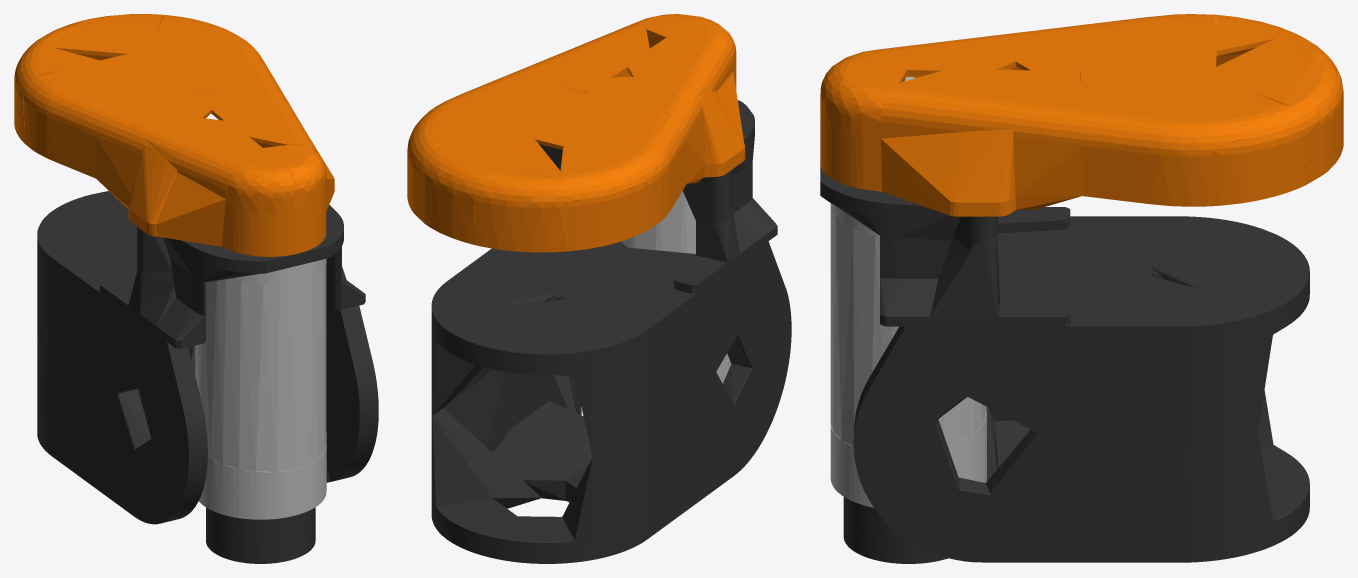
File: RARM_LINK6_mesh.dae
3 renders of one model, left to right at view 1: azimuth 30°, elevation 25°; view 2: azimuth 150°, elevation 25°; view 3: azimuth 270°, elevation 25°, orthographic. The views are drawn at different scales.
Parts seen in each view (by area): view 1: RARM_LINK6 (×5); view 2: RARM_LINK6 (×4); view 3: RARM_LINK6 (×5).
Boxes of the visible parts, x1=… form: RARM_LINK6 (×5): x1=14, y1=14, x2=378, y2=563; RARM_LINK6 (×4): x1=407, y1=14, x2=791, y2=563; RARM_LINK6 (×5): x1=820, y1=14, x2=1343, y2=563.
Size of the model in its own units: 0.058 by 0.0989 by 0.1004.
